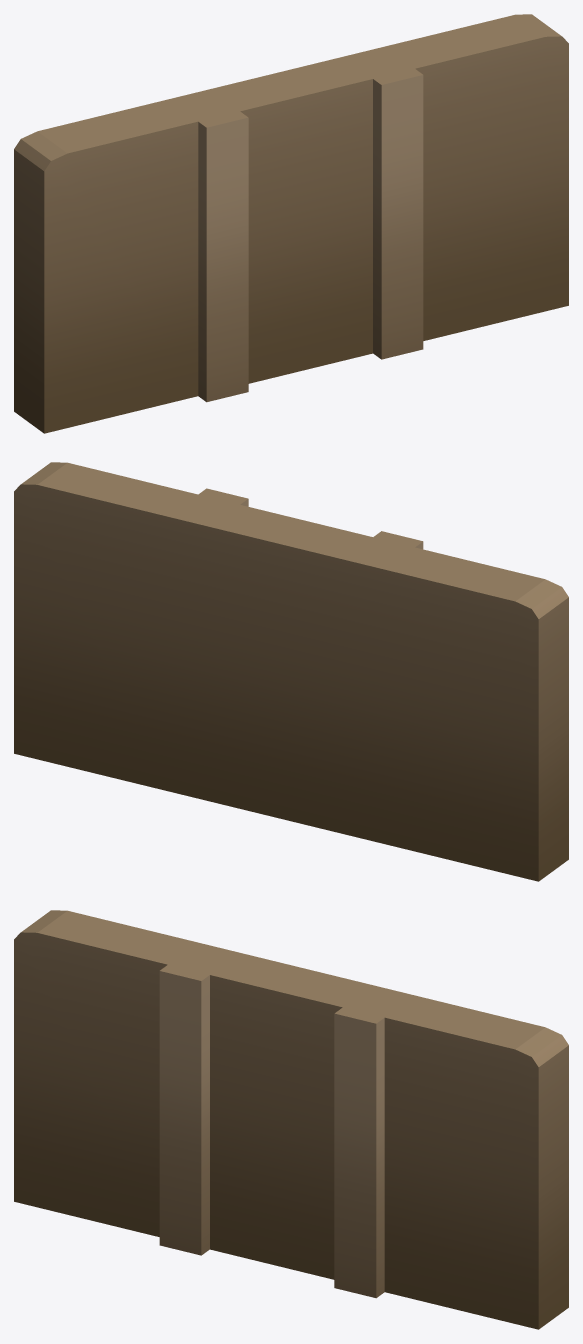
The model's file is House_Barn_Wall.fbx.
The picture shows the model from 3 angles, top to bottom: view 1: azimuth 30°, elevation 25°; view 2: azimuth 150°, elevation 25°; view 3: azimuth 330°, elevation 25°; orthographic projection.
Visible parts, largest first — view 1: House_Barn_Wall; view 2: House_Barn_Wall; view 3: House_Barn_Wall.
Boxes of the visible parts, box(x1,y1,x2,y2) form: House_Barn_Wall: box(14, 14, 568, 433); House_Barn_Wall: box(14, 462, 568, 881); House_Barn_Wall: box(14, 910, 568, 1329).
Size of the model in its own units: 2 by 1 by 0.2554.
1 material, 1 textured.
